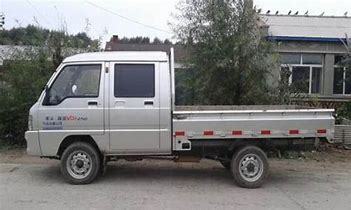smalltruck: (21, 46, 338, 191)
